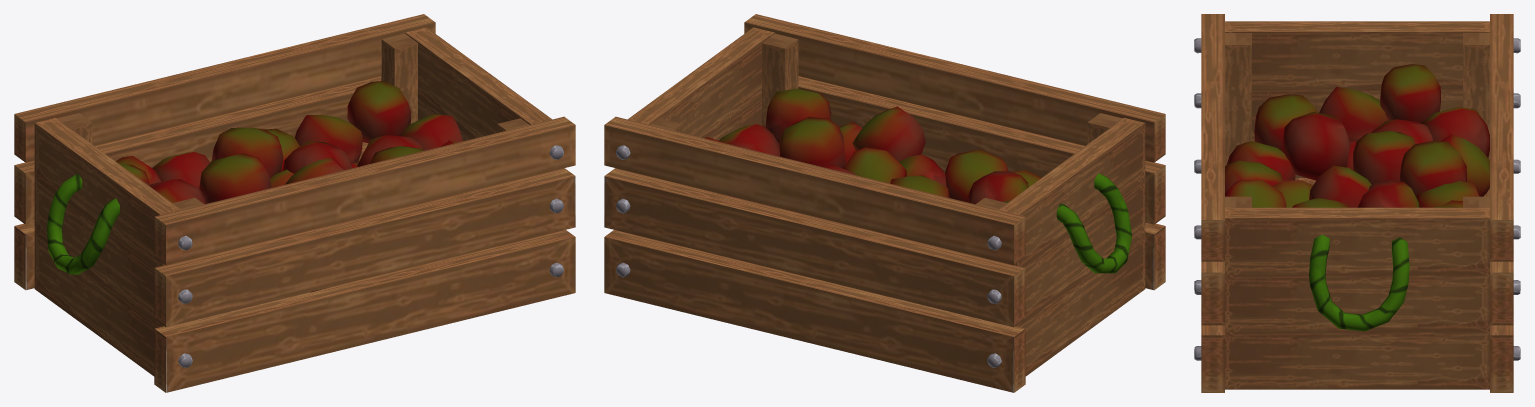
Rendered from FarmCrate_Apple.gltf.
3 renders of one model, left to right at view 1: azimuth 30°, elevation 25°; view 2: azimuth 150°, elevation 25°; view 3: azimuth 270°, elevation 25°, orthographic. The views are drawn at different scales.
Visible parts, largest first — view 1: FarmCrate_Apple; view 2: FarmCrate_Apple; view 3: FarmCrate_Apple.
Part boxes in pixels (x1,y1,x2,y2): FarmCrate_Apple: (14, 14, 575, 392); FarmCrate_Apple: (604, 14, 1165, 392); FarmCrate_Apple: (1194, 14, 1520, 392).
Size of the model in its own units: 0.7138 by 0.2438 by 0.4142.
Materials: 3 (3 with a texture image).
